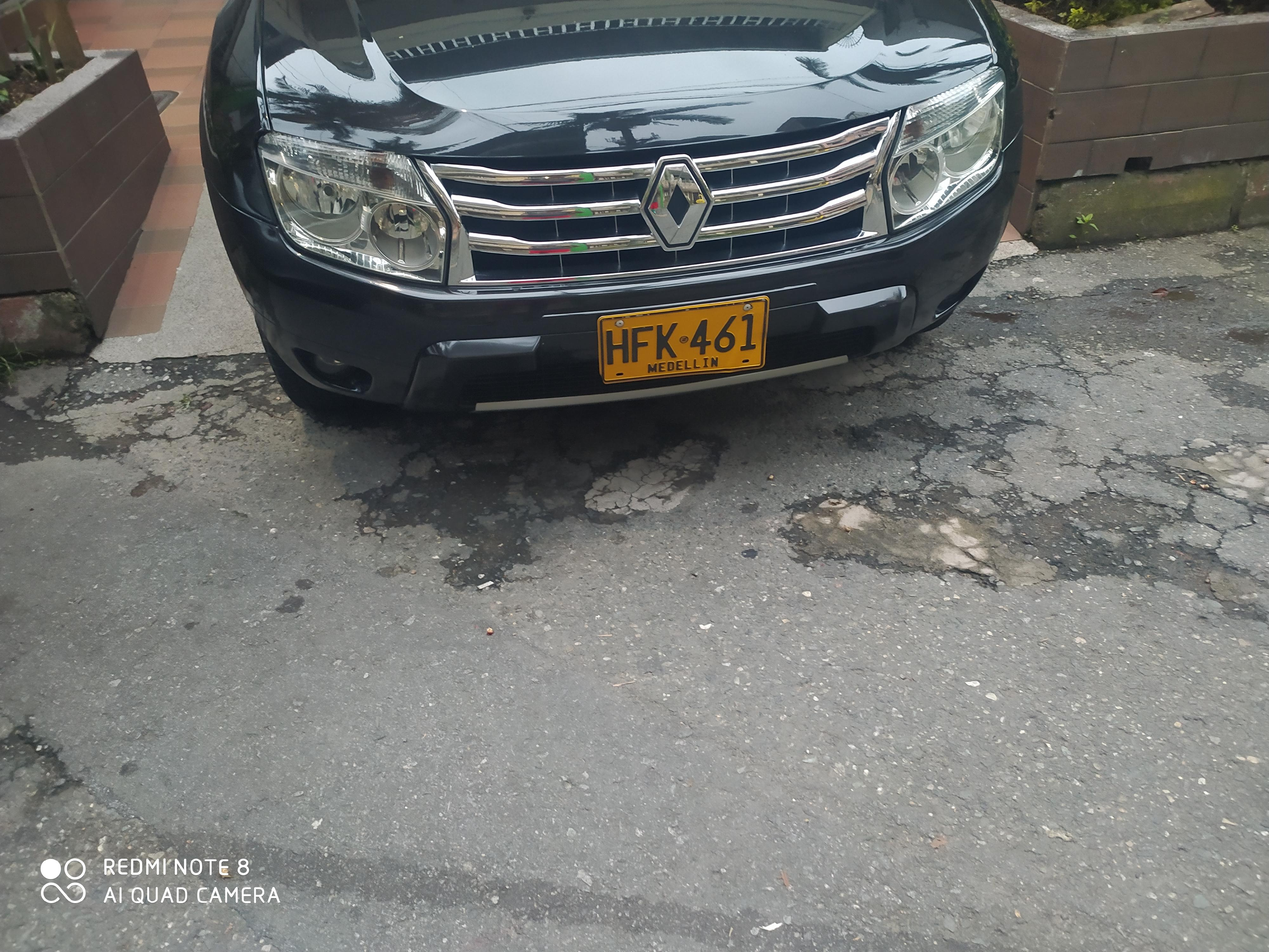placa: (592, 292, 771, 387)
